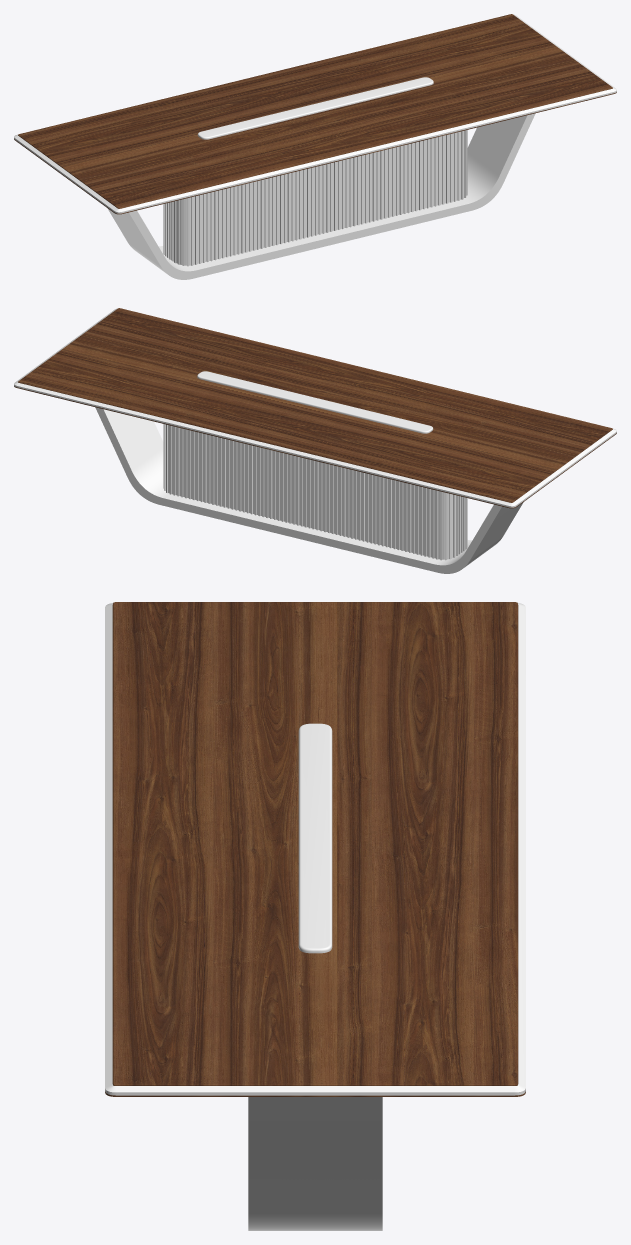
Rendered from meeting.glb.
The picture shows the model from 3 angles, top to bottom: view 1: azimuth 30°, elevation 25°; view 2: azimuth 150°, elevation 25°; view 3: azimuth 270°, elevation 25°; orthographic projection. The views are drawn at different scales.
Visible parts, largest first — view 1: Object001, Box017, Rectangle001, Line213, Box016, Box018, Box015; view 2: Object001, Box017, Rectangle001, Line213, Box016, Box018, Box015; view 3: Object001, Line213, Box016, Box018, Box015.
Part boxes in pixels (bbox=[...]): Object001: bbox=[18, 14, 612, 208]; Box017: bbox=[163, 130, 467, 266]; Rectangle001: bbox=[171, 131, 464, 265]; Line213: bbox=[107, 113, 535, 279]; Box016: bbox=[14, 14, 616, 213]; Box018: bbox=[197, 77, 433, 139]; Box015: bbox=[14, 92, 616, 214]; Object001: bbox=[18, 308, 612, 502]; Box017: bbox=[163, 424, 467, 560]; Rectangle001: bbox=[168, 425, 460, 559]; Line213: bbox=[95, 407, 523, 573]; Box016: bbox=[14, 308, 616, 507]; Box018: bbox=[197, 371, 433, 433]; Box015: bbox=[14, 386, 616, 508]; Object001: bbox=[112, 602, 518, 1085]; Line213: bbox=[248, 1097, 382, 1230]; Box016: bbox=[105, 603, 525, 1095]; Box018: bbox=[298, 723, 332, 953]; Box015: bbox=[105, 1091, 525, 1096].
Size of the model in its own units: 3.46 by 0.824 by 1.26.
Materials: 3 (1 with a texture image).
